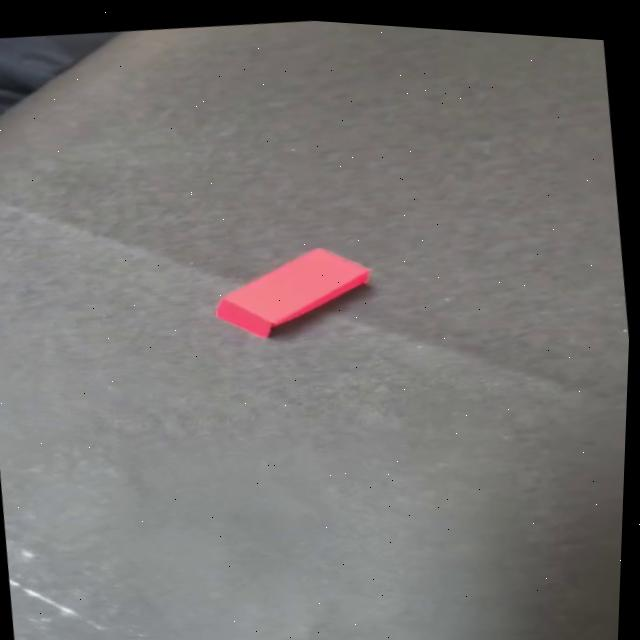red block: (206, 231, 381, 349)
